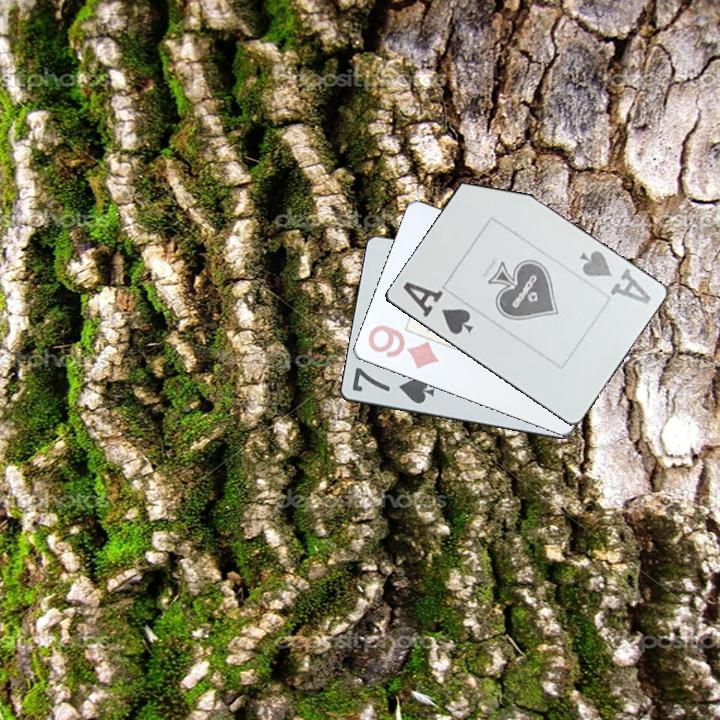7s: (348, 364, 438, 407)
9d: (364, 321, 442, 372)
As: (398, 278, 476, 338), (576, 247, 654, 307)
